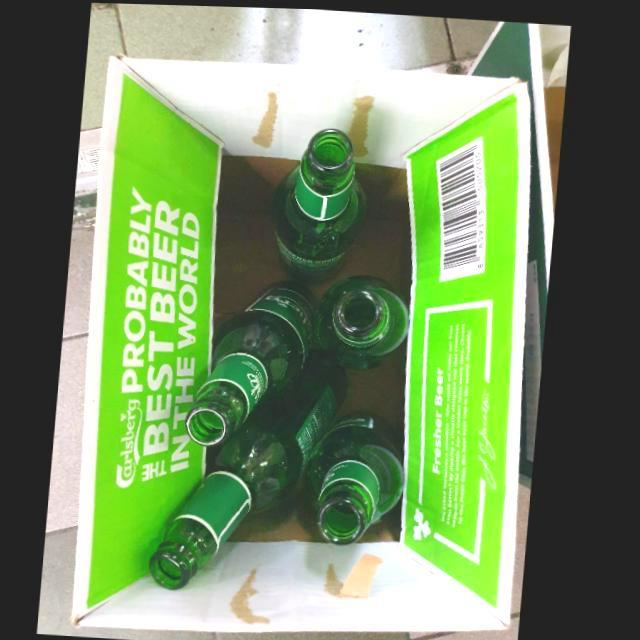glass_bottle: (154, 352, 351, 590), (190, 278, 321, 446), (272, 126, 369, 282), (310, 411, 410, 542), (317, 272, 413, 367)
